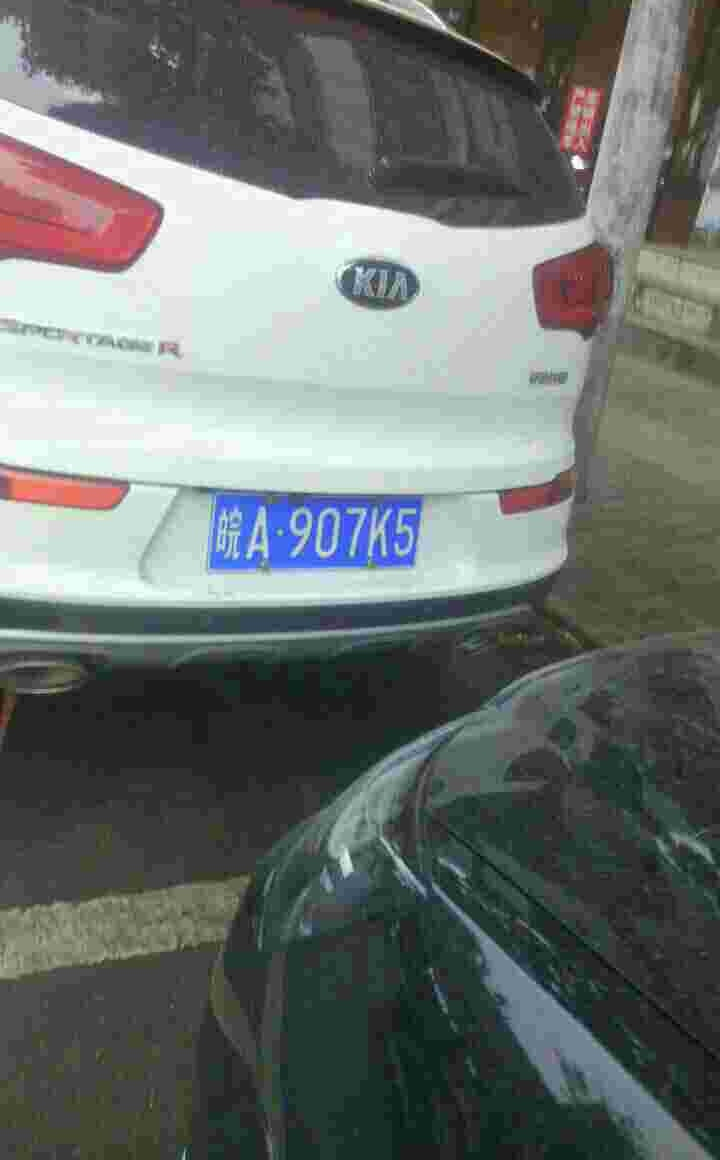plate: (212, 491, 435, 574)
